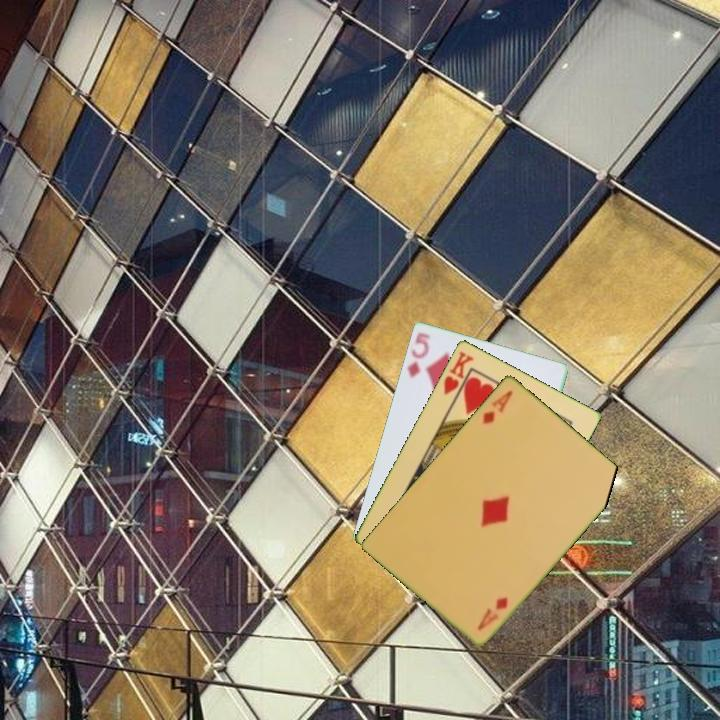5d: (403, 329, 433, 380)
Ad: (473, 593, 511, 633), (478, 386, 515, 427)
Kh: (440, 347, 477, 404)
